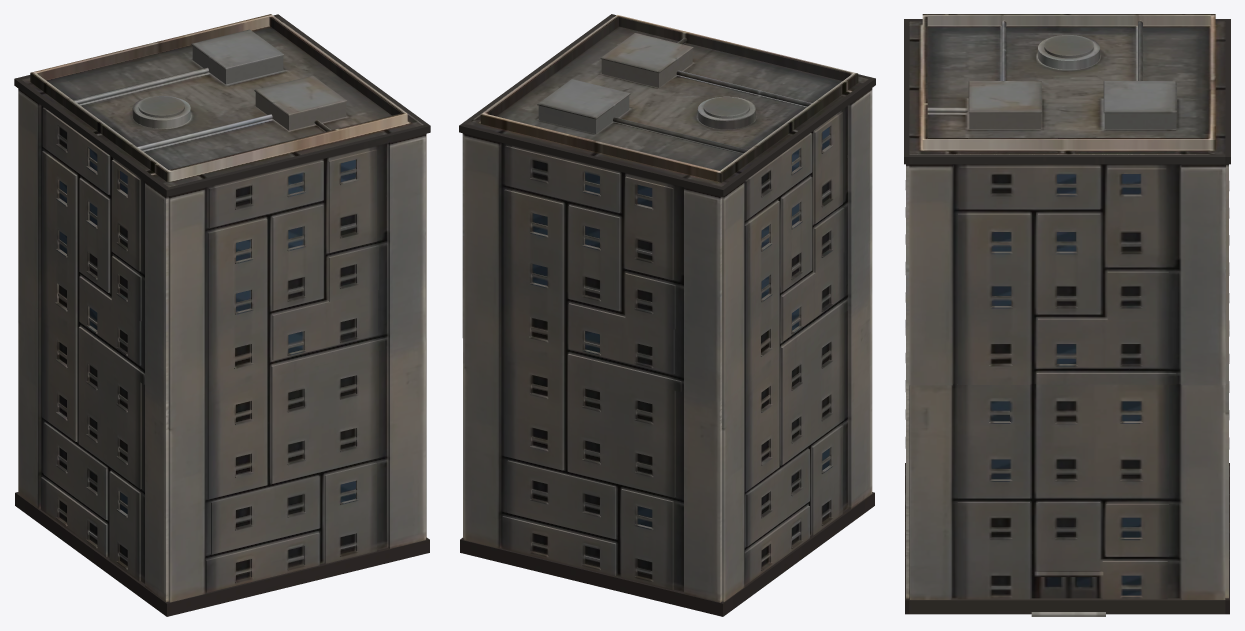
Rendered from city8storya_cad.glb.
3 views of the same model, side by side, from view 1: azimuth 30°, elevation 25°; view 2: azimuth 150°, elevation 25°; view 3: azimuth 270°, elevation 25° (orthographic). The views are drawn at different scales.
Parts seen in each view (by area): view 1: CityBlock8Story_A; view 2: CityBlock8Story_A; view 3: CityBlock8Story_A.
Boxes of the visible parts, box(x1,y1,x2,y2) form: CityBlock8Story_A: box(14, 14, 430, 616); CityBlock8Story_A: box(459, 14, 875, 616); CityBlock8Story_A: box(904, 14, 1230, 616).
Size of the model in its own units: 18.66 by 29.47 by 18.36.
Materials: 1 (1 with a texture image).
